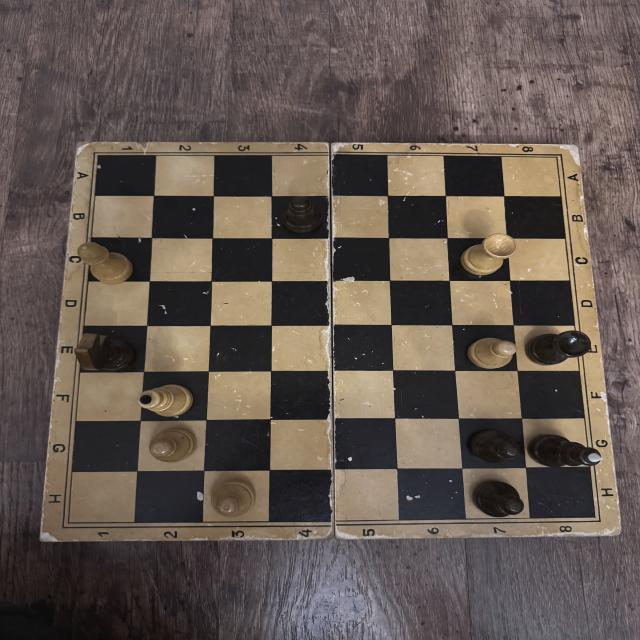black-king: (528, 432, 605, 470)
black-knight: (73, 331, 135, 372)
black-pawn: (470, 478, 527, 520), (469, 426, 521, 464), (280, 196, 324, 235)
black-rook: (524, 332, 592, 366)
white-bishop: (76, 241, 134, 286)
white-king: (136, 383, 192, 417)
white-pawn: (469, 338, 518, 372), (147, 429, 196, 462), (210, 481, 254, 517)
white-rook: (459, 233, 518, 278)
